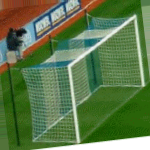goals: (20, 13, 146, 142)
